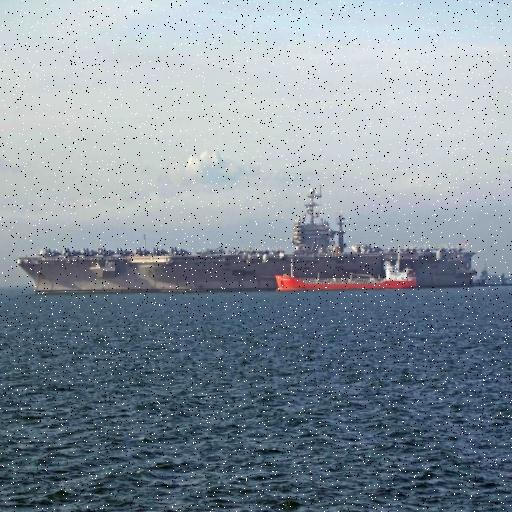Portanaves: (15, 181, 484, 298)
